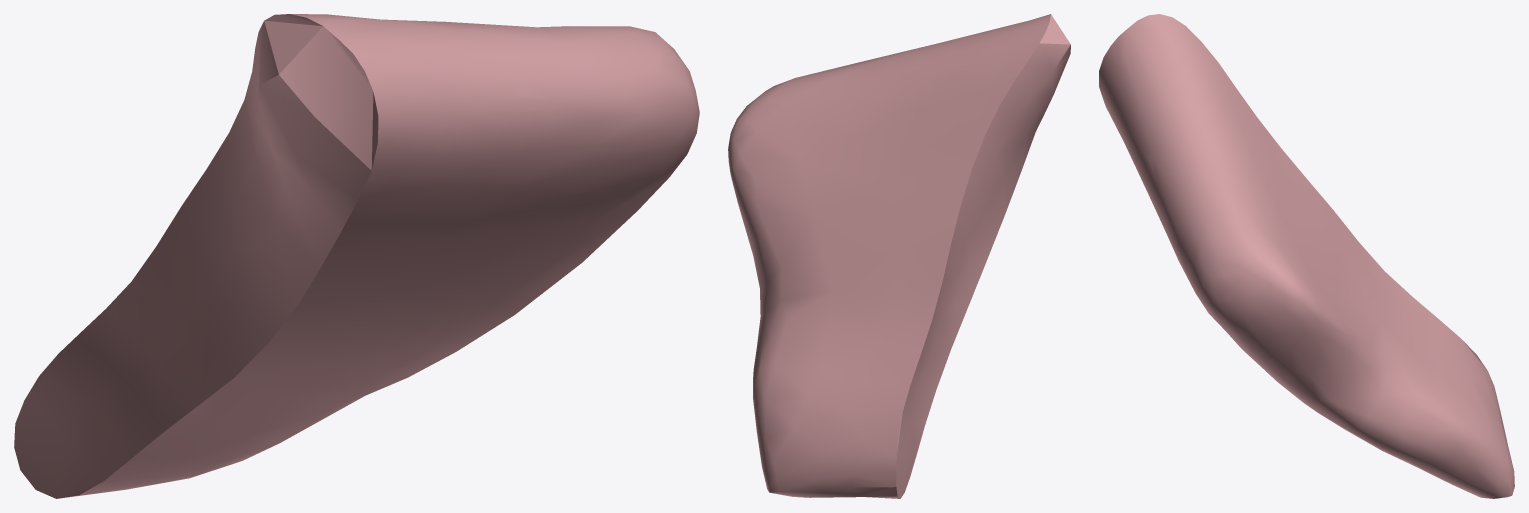
File: fma275399_mm3765.glb
3 views of the same model, side by side, from view 1: azimuth 30°, elevation 25°; view 2: azimuth 150°, elevation 25°; view 3: azimuth 270°, elevation 25° (orthographic). The views are drawn at different scales.
Parts seen in each view (by area): view 1: FMA275399_MM3765; view 2: FMA275399_MM3765; view 3: FMA275399_MM3765.
Boxes of the visible parts, x1,y1,x2,y2 form: FMA275399_MM3765: (14, 14, 699, 498); FMA275399_MM3765: (728, 14, 1070, 498); FMA275399_MM3765: (1099, 14, 1514, 498).
Bounding box in the file's own units: 0.0145 × 0.0195 × 0.0173.
